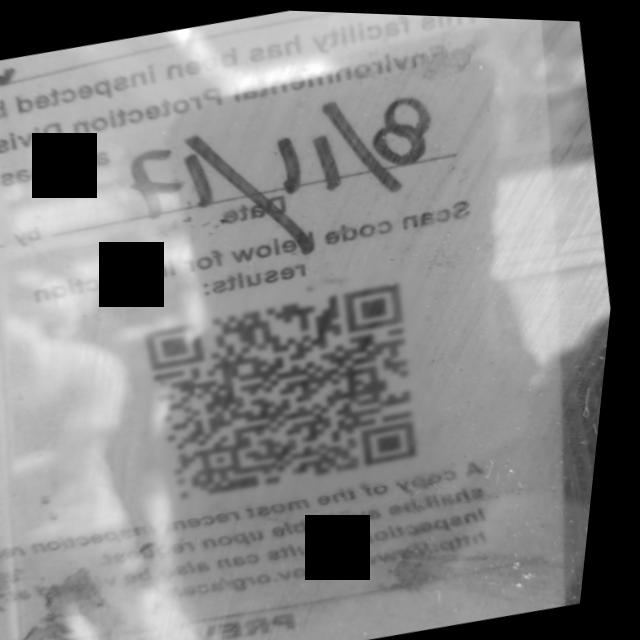QR_CODE: (115, 248, 472, 532)
